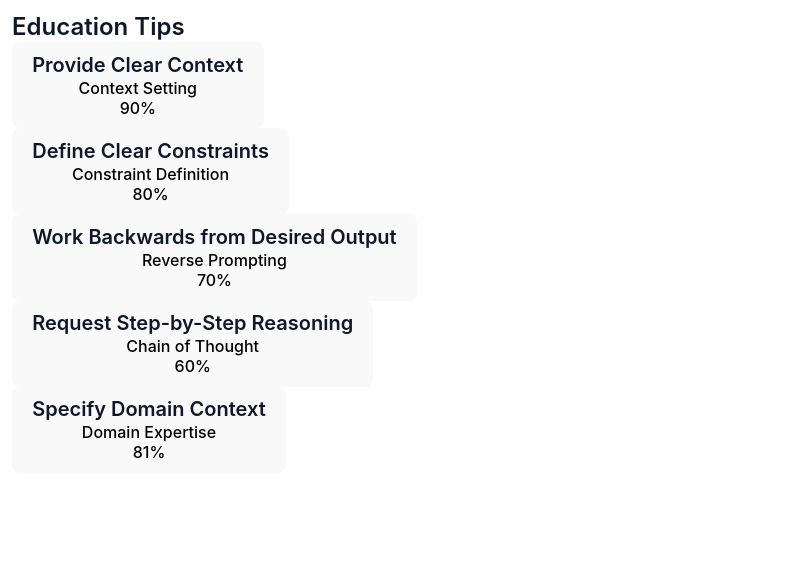
Scenario: EducationPanel Component › Expand/Collapse Functionality › should expand tip details when tip is clicked
Click the heading "Provide Clear Context". click: (138, 65)
box: [32,53,243,78]
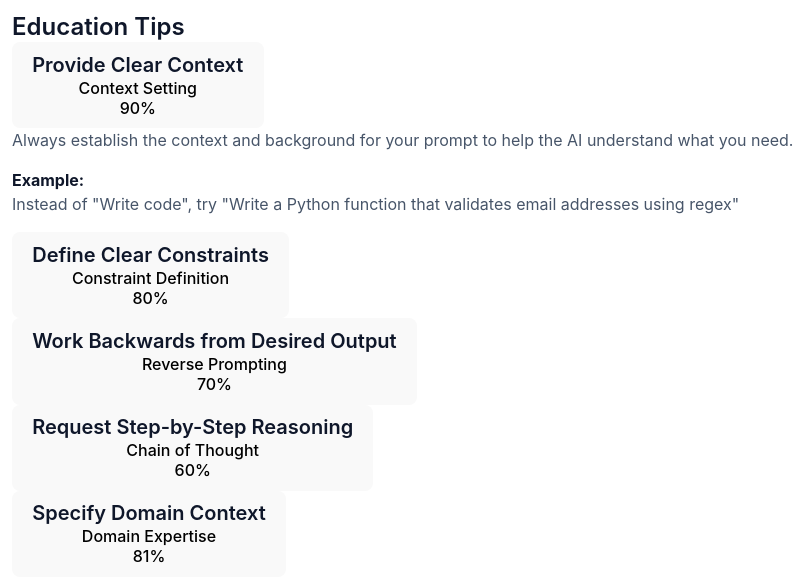
Now the text "Always establish the context and background for your prompt to help the AI understand what you need." is shown, box [12,130,794,150]
